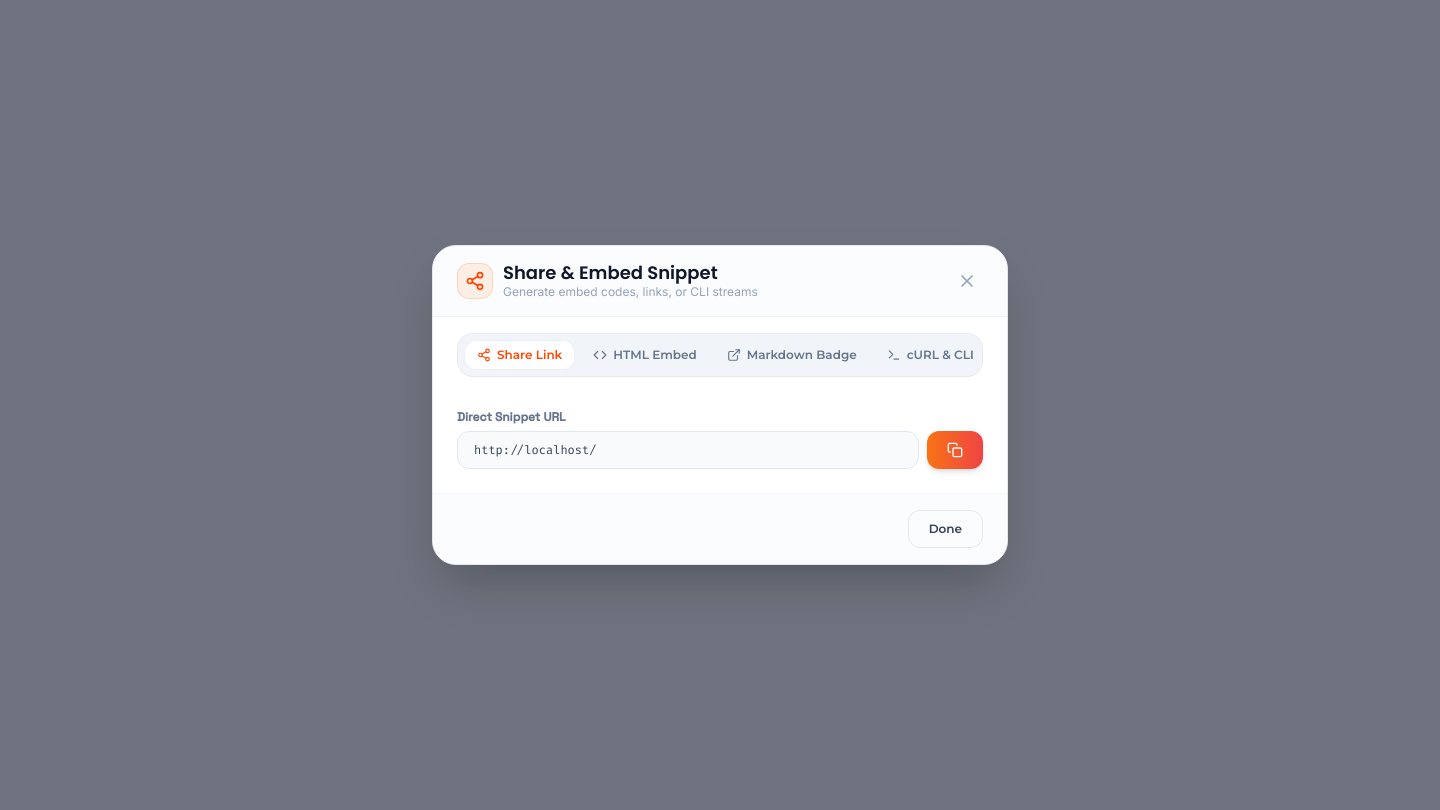
Advanced Developer & Student Features Test Suite › 3. Share & Responsive Embed Suite › generates responsive iframe embed code and raw API links
Expected: the heading "Share & Embed Snippet" is shown, [503,260,718,285]
Expected: the button "Share Link" is shown, [464,340,575,370]
Note: Switch to HTML Embed
Step 1. Click the button "HTML Embed" → (645, 355), box [581,341,709,369]
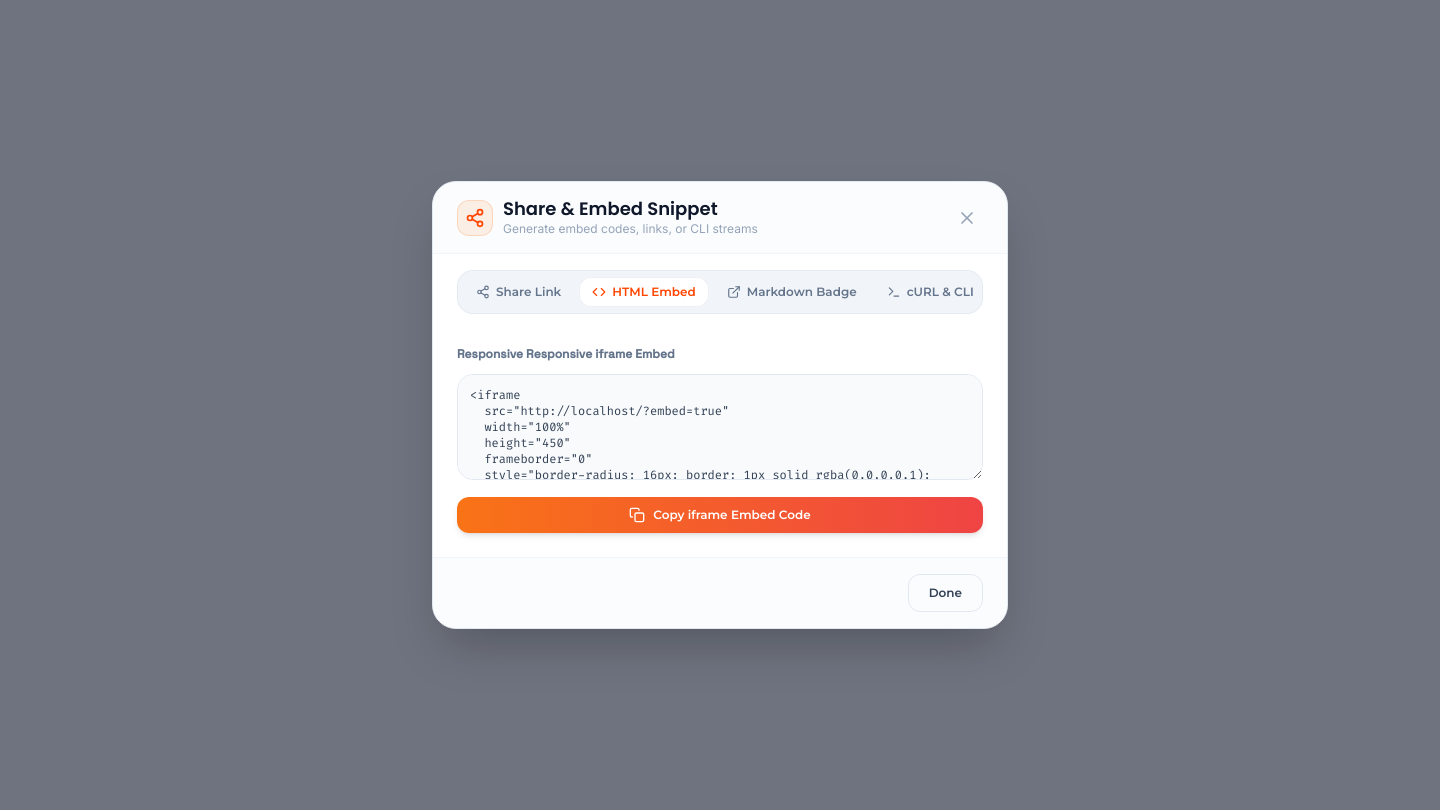
Result: the button "Copy iframe Embed Code" is shown at [457,497,983,533]
Note: Switch to cURL tab
Step 2. Click the button "cURL & CLI" → (930, 292), box [875,278,986,306]
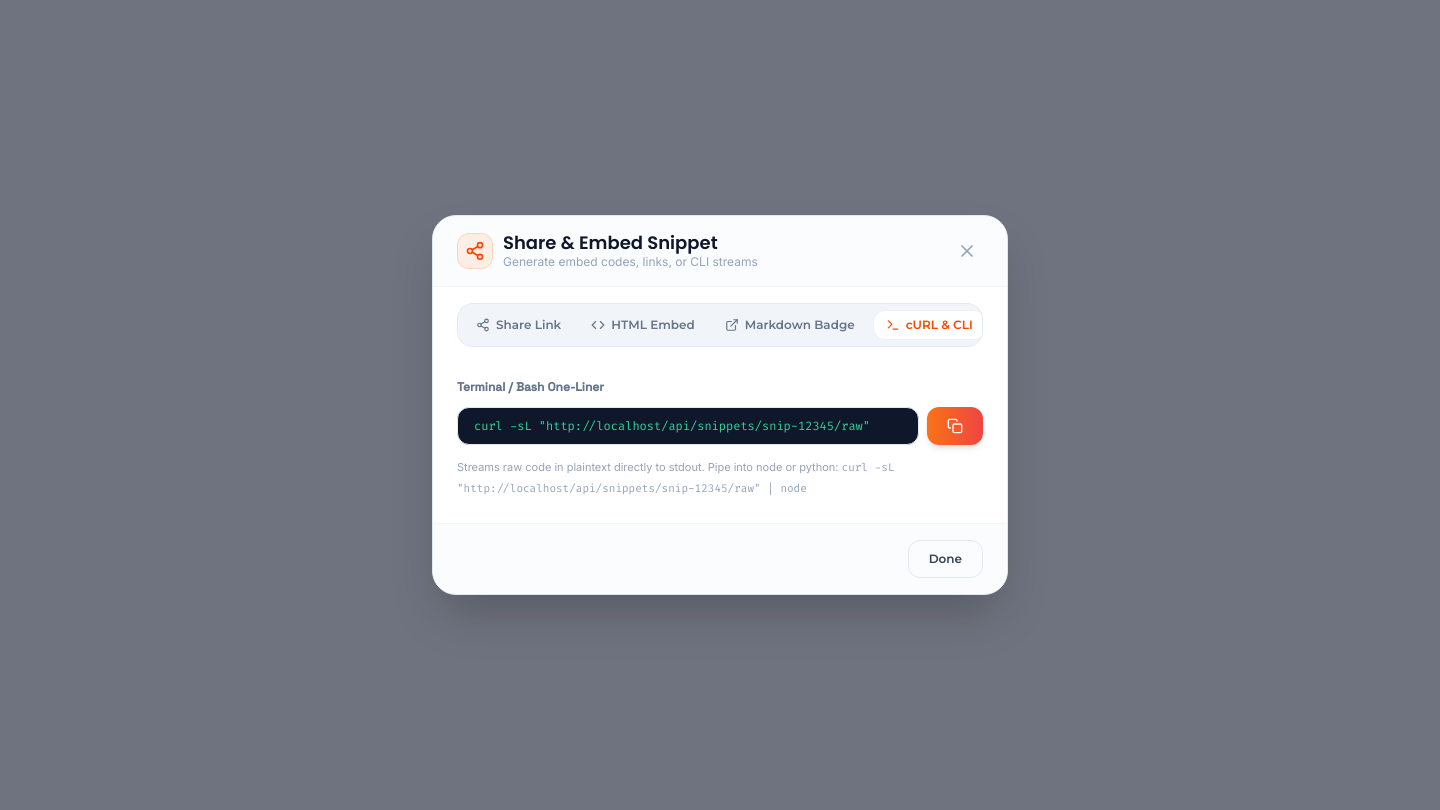
Result: the text "Terminal / Bash One-Liner" is shown at [457,379,604,395]
